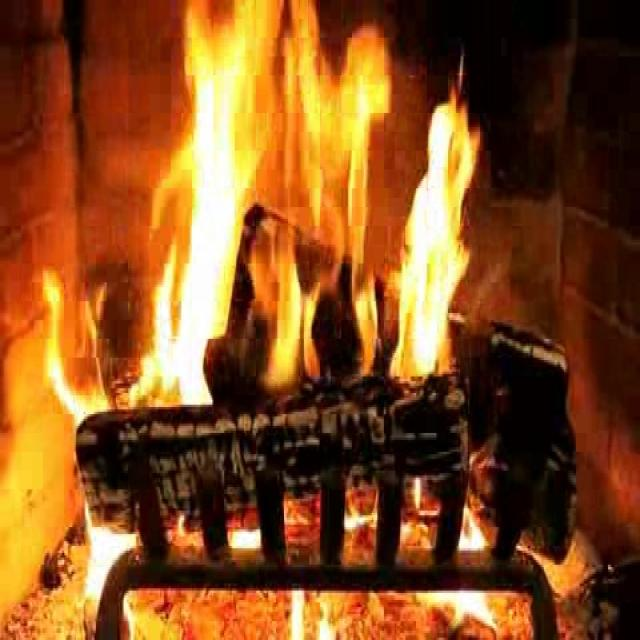fire: (128, 3, 466, 392)
